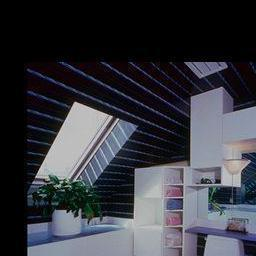Matera: (33, 167, 95, 236)
